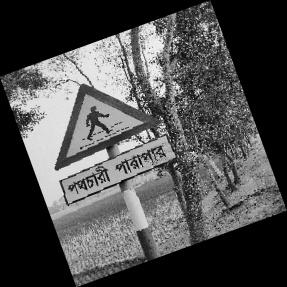Pedestrian-crossing: (53, 83, 174, 209)
